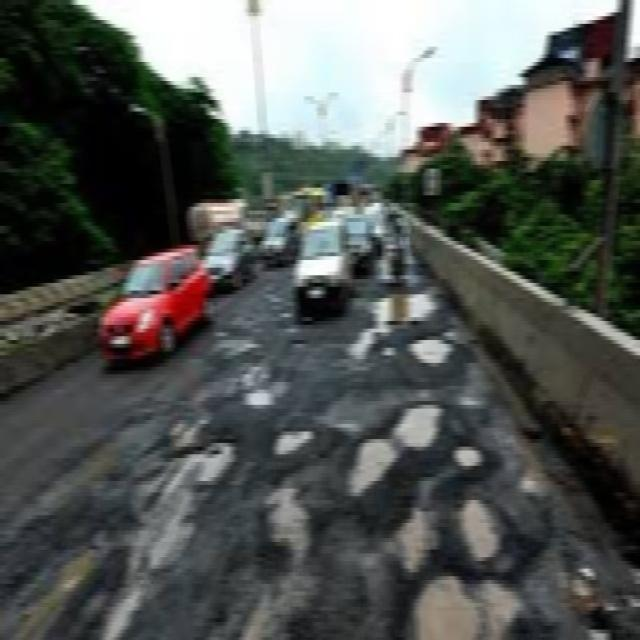Pothole: (0, 537, 152, 640), (136, 429, 241, 574), (346, 399, 456, 512), (383, 568, 528, 640), (204, 565, 322, 640), (345, 281, 439, 364), (255, 478, 322, 560), (451, 492, 511, 564), (385, 499, 438, 576), (250, 426, 316, 455), (411, 330, 454, 370), (453, 438, 487, 476), (215, 336, 268, 360), (242, 388, 278, 406), (282, 336, 317, 352), (381, 347, 395, 360)
